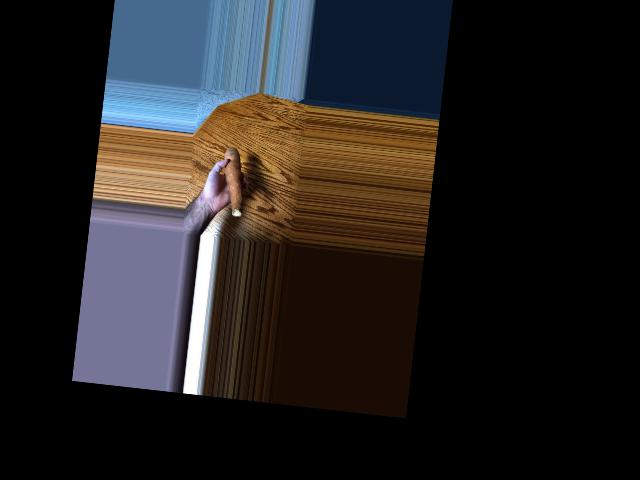sweet_potato: (222, 143, 248, 220)
